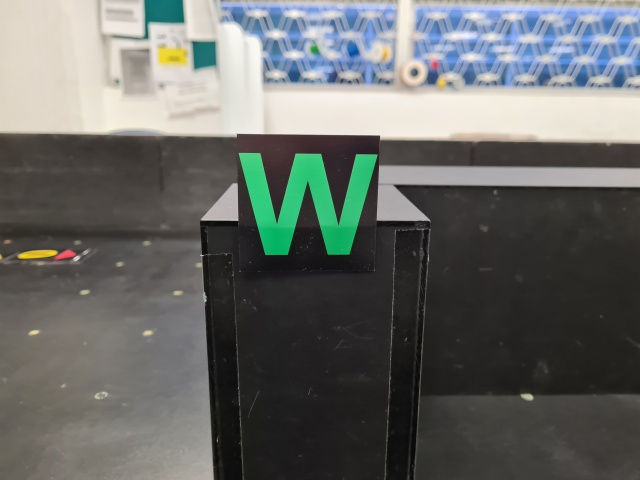alphabet_w: (236, 134, 379, 276)
